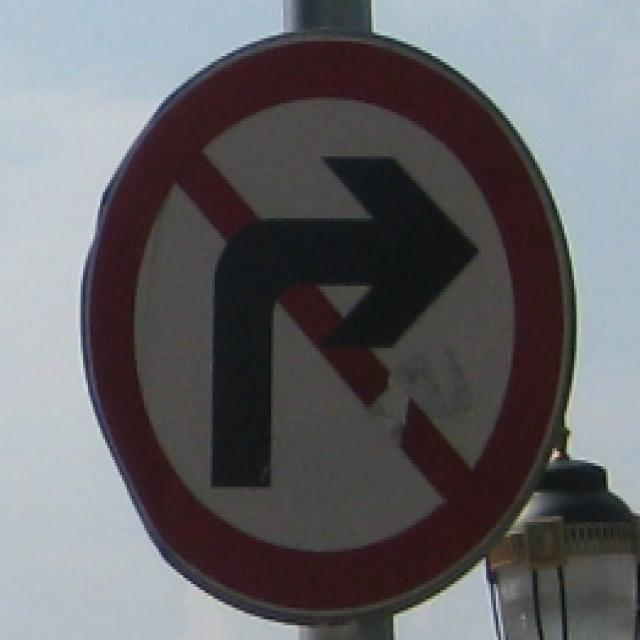Not that Direction: (81, 31, 586, 609)
